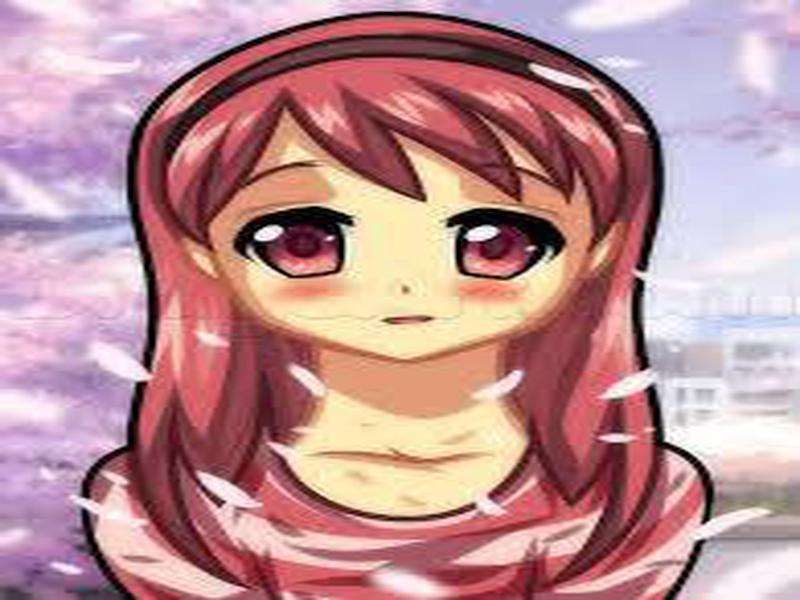without_mask: (200, 129, 578, 363)
